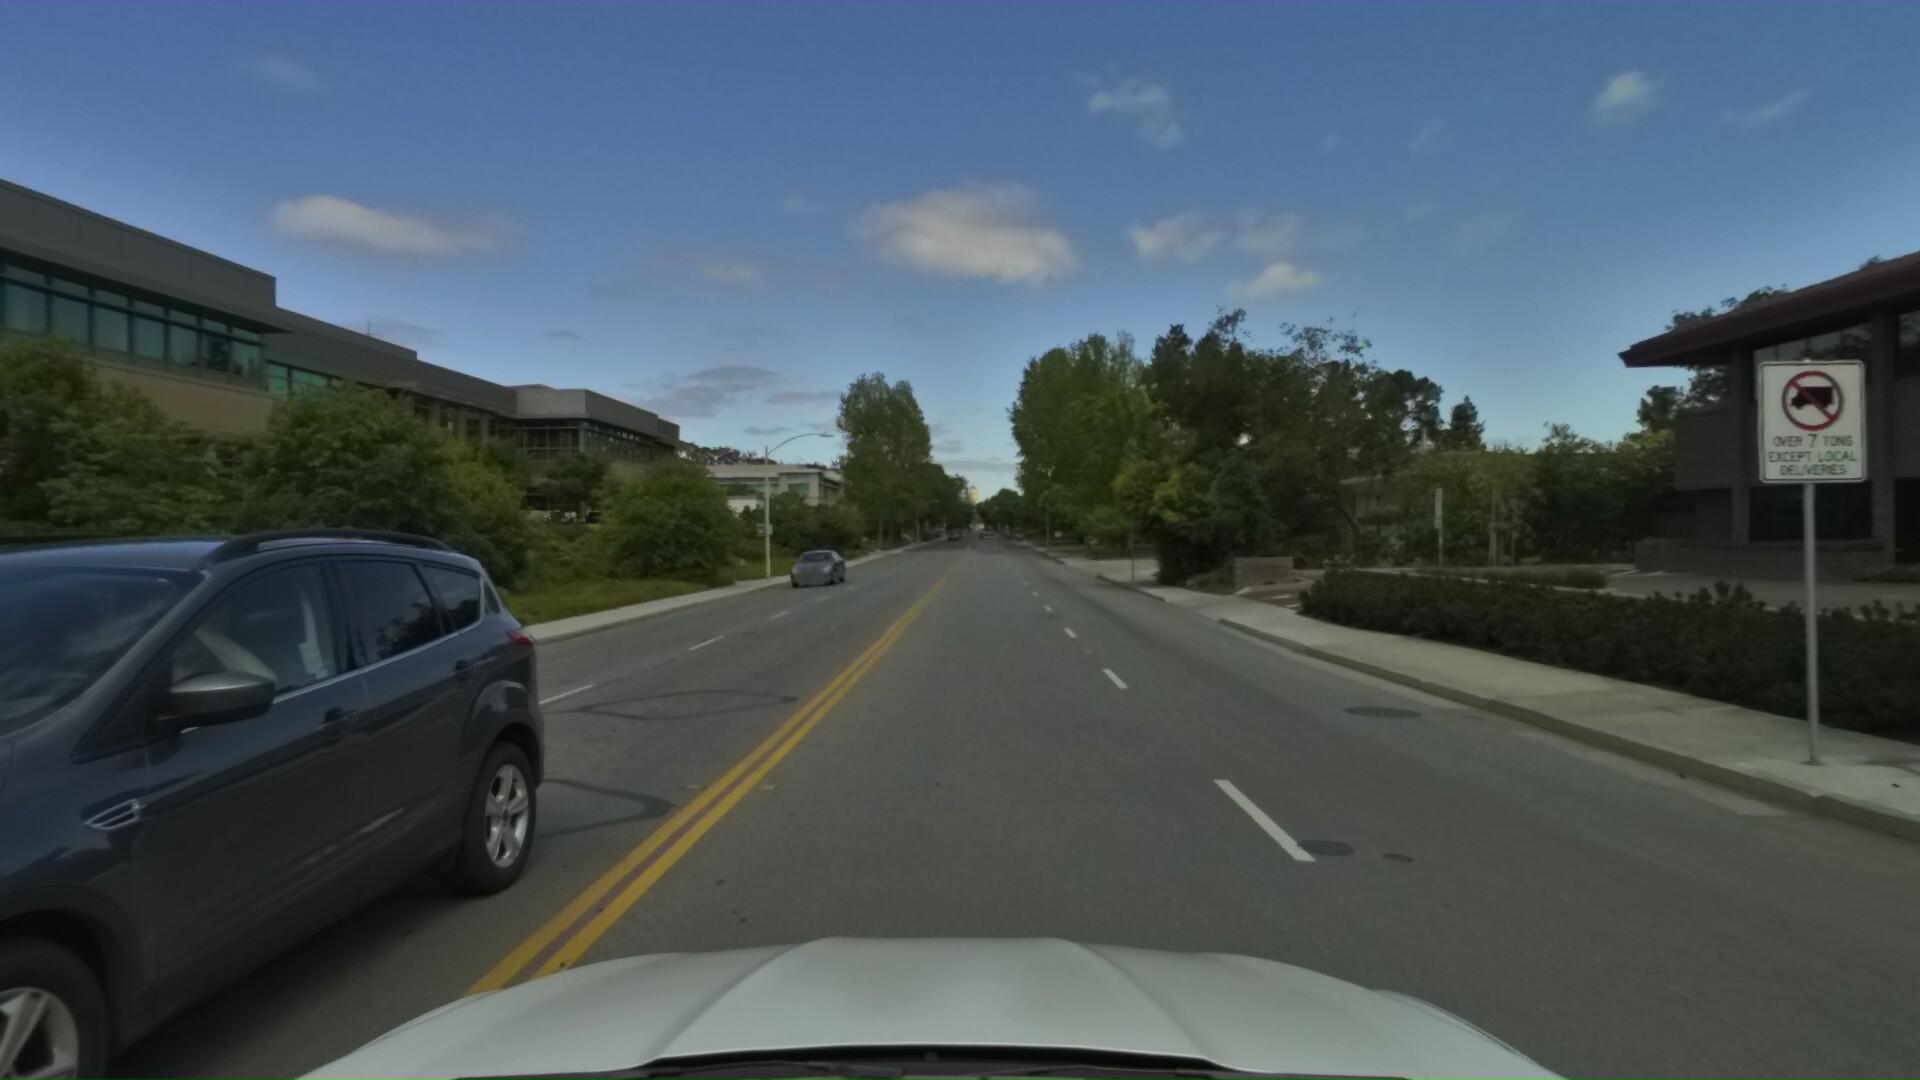car: (0, 456, 582, 1080), (775, 546, 845, 593)
